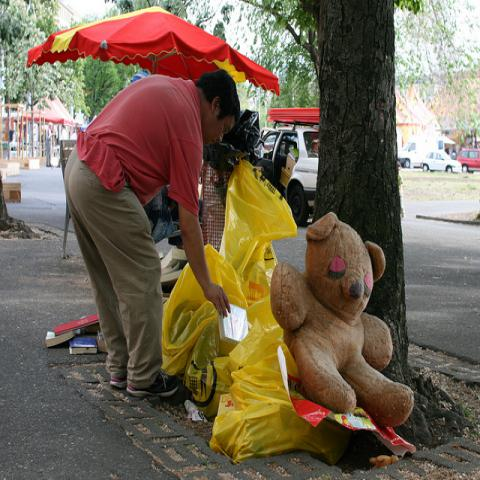car: (255, 120, 319, 226), (397, 135, 438, 170), (420, 149, 462, 173), (457, 148, 480, 175)
